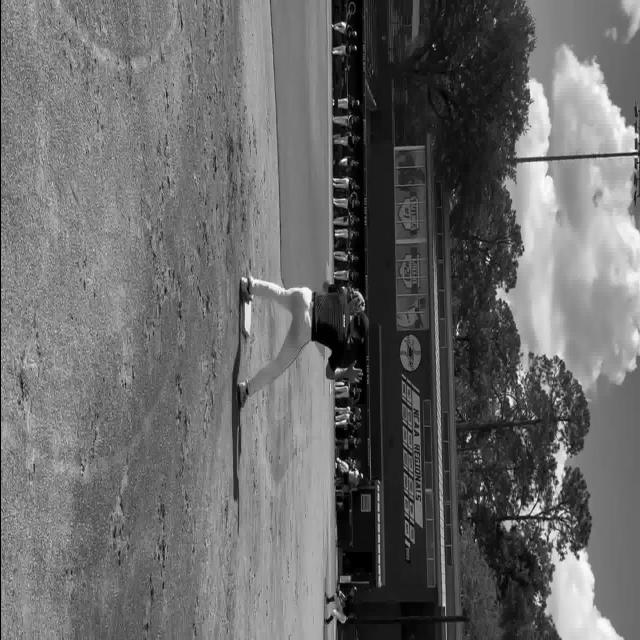base: (240, 303, 251, 340)
baseball_glove: (348, 291, 365, 316)
shoe: (239, 276, 251, 305), (236, 380, 248, 409)
